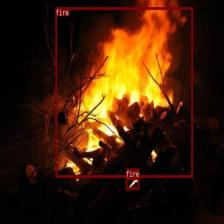fire: (55, 7, 193, 177), (126, 177, 139, 189)
